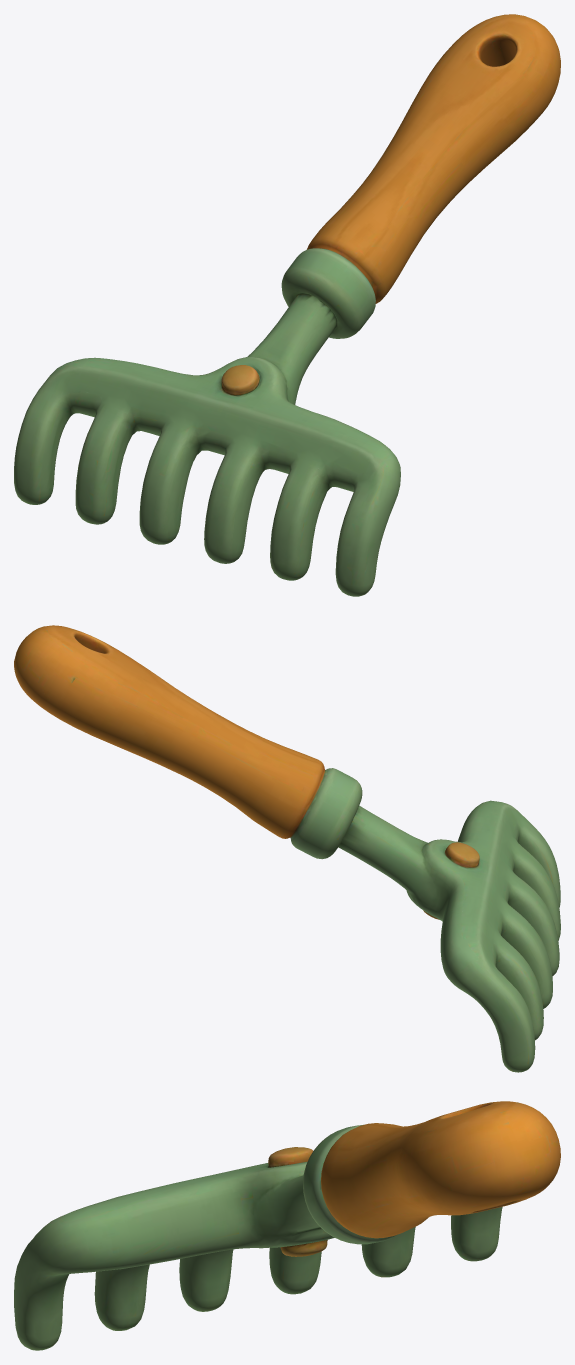
3 renders of one model, top to bottom at view 1: azimuth 30°, elevation 25°; view 2: azimuth 150°, elevation 25°; view 3: azimuth 270°, elevation 25°, orthographic. The views are drawn at different scales.
Visible parts, largest first — view 1: rake; view 2: rake; view 3: rake.
Part boxes in pixels (box(x1,y1,x2,y2)): rake: box(14, 14, 560, 596); rake: box(14, 625, 560, 1072); rake: box(14, 1101, 560, 1350).
Bounding box in the file's own units: 0.45 × 0.2832 × 0.3132.
1 material, 1 textured.
